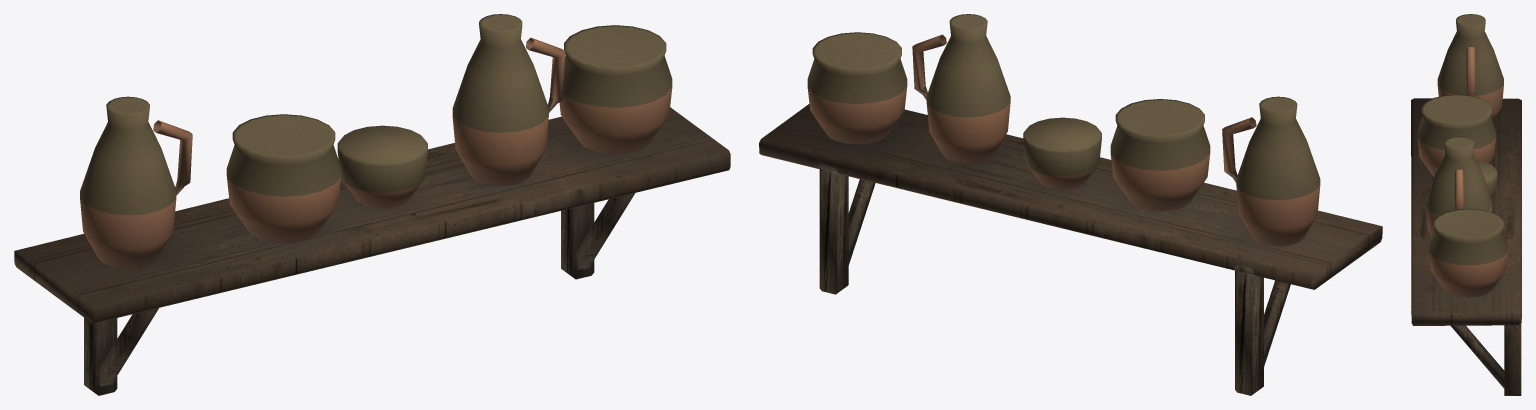
Rendered from shelf_pottery.glb.
3 views of the same model, side by side, from view 1: azimuth 30°, elevation 25°; view 2: azimuth 150°, elevation 25°; view 3: azimuth 270°, elevation 25° (orthographic). The views are drawn at different scales.
Parts seen in each view (by area): view 1: shelf_pottery; view 2: shelf_pottery; view 3: shelf_pottery.
Part boxes in pixels (bbox=[...]): shelf_pottery: bbox=[14, 14, 730, 395]; shelf_pottery: bbox=[759, 14, 1382, 395]; shelf_pottery: bbox=[1411, 14, 1521, 395].
Size of the model in its own units: 1.2 by 0.5525 by 0.2627.
1 material, 1 textured.
